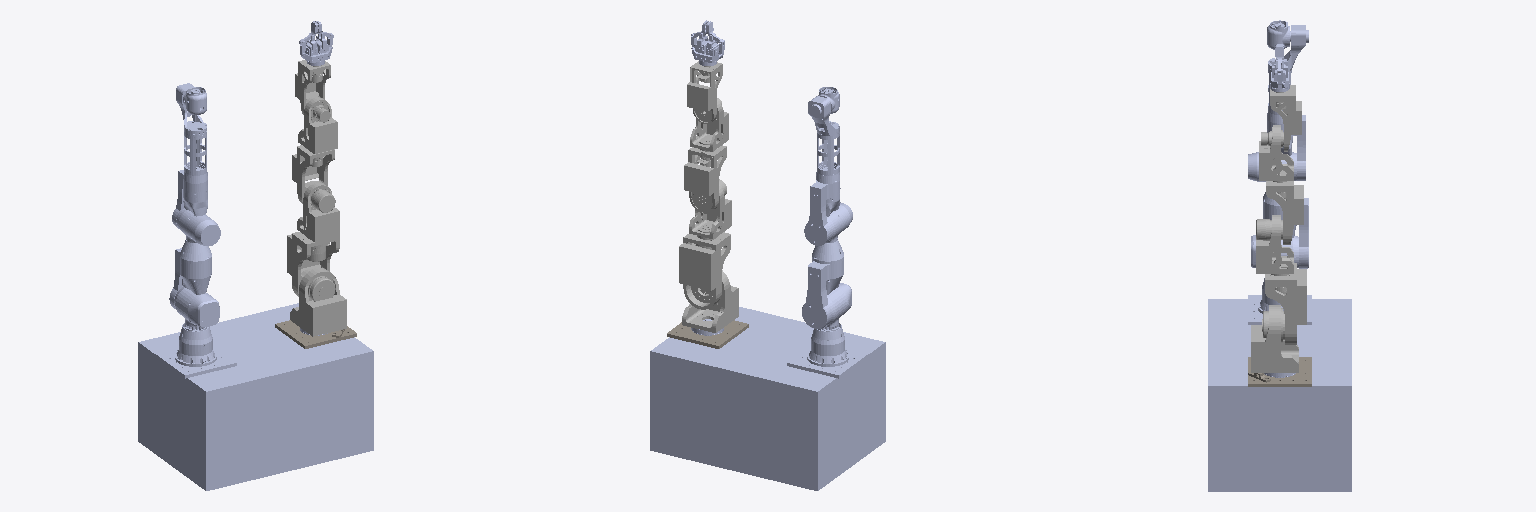
--- Render facts (derived) ---
The picture shows the robot from 3 angles, left to right: view 1: azimuth 30°, elevation 25°; view 2: azimuth 150°, elevation 25°; view 3: azimuth 270°, elevation 25°; orthographic projection.
Model dualarm with 19 links and 18 joints (14 revolute, 4 fixed), rooted at base_link, posed all joints at 0.
Links seen in each view (by area): view 1: base_link, mani1_link2, mani1_link4, mani1_link3, mani2_link3, mani1_link6, mani2_link6, mani2_link2, mani1_link5, mani2_link1, mani2_link5, mani1_link7 (+5 smaller); view 2: base_link, mani1_link3, mani2_link3, mani1_link5, mani2_link5, mani1_link2, mani2_link6, mani1_link7, mani2_link1, mani1_link4, mani1_link6, mani1_base (+4 smaller); view 3: base_link, mani1_link2, mani1_link3, mani1_link4, mani1_link6, mani1_link5, mani1_link7, mani1_base, mani2_link3, mani2_link5, mani2_link6, mani1_eff (+2 smaller).
Boxes of the visible links, box(x1,y1,x2,y2) form: base_link: box(138, 303, 373, 490); mani1_link2: box(290, 268, 346, 336); mani1_link4: box(297, 182, 339, 242); mani1_link3: box(287, 232, 339, 296); mani2_link3: box(169, 239, 211, 308); mani1_link6: box(298, 97, 337, 153); mani2_link6: box(176, 83, 206, 175); mani2_link2: box(174, 287, 219, 330); mani1_link5: box(292, 145, 334, 203); mani2_link1: box(175, 323, 216, 366); mani2_link5: box(172, 170, 207, 228); mani1_link7: box(295, 60, 330, 114); base_link: box(650, 307, 885, 490); mani1_link3: box(679, 232, 730, 309); mani2_link3: box(802, 238, 843, 328); mani1_link5: box(684, 145, 726, 213); mani2_link5: box(804, 172, 840, 245); mani1_link2: box(682, 270, 738, 332); mani2_link6: box(808, 96, 839, 175); mani1_link7: box(687, 61, 722, 123); mani2_link1: box(807, 323, 848, 366); mani1_link4: box(689, 179, 731, 239); mani1_link6: box(690, 98, 728, 151); mani1_base: box(667, 320, 748, 348); base_link: box(1208, 299, 1351, 491); mani1_link2: box(1251, 305, 1298, 372); mani1_link3: box(1265, 263, 1306, 344); mani1_link4: box(1256, 215, 1293, 273); mani1_link6: box(1259, 125, 1293, 180); mani1_link5: box(1266, 181, 1303, 244); mani1_link7: box(1270, 85, 1301, 151); mani1_base: box(1248, 357, 1311, 386); mani2_link3: box(1263, 192, 1308, 268); mani2_link5: box(1267, 112, 1305, 180); mani2_link6: box(1268, 25, 1308, 114); mani1_eff: box(1270, 44, 1289, 91).
Size in the robot's own frame: 0.66 by 0.45 by 1.5 metres.
Meshes: 19 distinct files referenced, 18 mesh visuals loaded (18 binary STL); not drawn: 1 (reference not matched to a file when rendering).

The robot description file, URDF, robot "dualarm":
<robot
  name="dualarm">


  <!-- make dummy joint -->
<!-- 
<joint name="dummy_joint" type="fixed">
    <origin xyz="0 0 0" rpy="0 0 0" />
    <child link="base_link"/>
    <parent link="dummy_link"/>
  </joint> -->


<!-- make dummy link -->

  <!-- <link name="dummy_link">
  </link>

  <gazebo reference="dummy_link">
    <material>Gazebo/White</material>
  </gazebo>
 -->

  <link
    name="base_link">
    <inertial>
      <origin
        xyz="0.32 0.225 0.1" 
        rpy="0 0 0" />
      <mass
        value="100" />
      <inertia
        ixx="8.41666666666667"
        ixy="9.71445146547012E-16"
        ixz="-1.38777878078145E-17"
        iyy="8.41666666666666"
        iyz="9.25185853854297E-18"
        izz="16.6666666666667" />
    </inertial>
    <visual>
      <origin
        xyz="-0.32 -0.225 0"
        rpy="0 0 0" />
      <geometry>
        <mesh
          filename="package://dualarm_config/meshes/base.STL" />
      </geometry>
      <material
        name="">
        <color
          rgba="0.792156862745098 0.819607843137255 0.933333333333333 1" />
      </material>
    </visual>
    <collision>
      <origin
        xyz="0 0 0"
        rpy="0 0 0" />
      <geometry>
        <mesh
          filename="package://dualarm_config/meshes/base.STL" />
      </geometry>
    </collision>
  </link>

  <gazebo reference="base_link">              
    		<material>Gazebo/White</material>
  </gazebo>





<!-- distance between two manipulator is 46cm (=0.46/2 =.23)0 -->
<!-- height between base origin to manipulator base is 11.2cm (=0.112) -->

  <joint
    name="base_joint_left"
    type="fixed">
    <origin
      xyz="0.230 0 0.376"
      rpy="0 0 0" />
    <parent
      link="base_link" />
    <child
      link="mani1_base" />
    <axis
      xyz="0 0 0" />
  </joint>






  <link
    name="mani1_base">
    <inertial>
      <origin
        xyz="0.000214133185221511 -0.000263993773760912 -0.00611775454032076"
        rpy="0 0 0" />
      <mass
        value="3.57330907434109" />
      <inertia
        ixx="0.0125043470138794"
        ixy="4.69689009859497E-05"
        ixz="-9.0888380429557E-06"
        iyy="0.0124805069140377"
        iyz="1.10392895970441E-05"
        izz="0.0248975799456784" />
    </inertial>
    <visual>
      <origin
        xyz="0 0 0"
        rpy="0 0 0" />
      <geometry>
        <mesh
          filename="package://dualarm_config/meshes/mani1_base.STL" />
      </geometry>
      <material
        name="">
        <color
          rgba="0.647058823529412 0.619607843137255 0.588235294117647 1" />
      </material>
    </visual>
    <collision>
      <origin
        xyz="0 0 0"
        rpy="0 0 0" />
      <geometry>
        <mesh
          filename="package://dualarm_config/meshes/mani1_base.STL" />
      </geometry>
    </collision>
  </link>

  <gazebo reference="mani1_base">
              
    		<material>Gazebo/White</material>
  </gazebo>

  <link
    name="mani1_link1">
    <inertial>
      <origin
        xyz="-3.51872665886486E-06 -0.000870878275491564 -0.00474601269745995"
        rpy="0 0 0" />
      <mass
        value="0.446330780520445" />
      <inertia
        ixx="0.000441978892899946"
        ixy="9.59086613795905E-08"
        ixz="6.49516463430428E-08"
        iyy="0.000420405291605374"
        iyz="-5.37864589703489E-06"
        izz="0.000462095403932586" />
    </inertial>
    <visual>
      <origin
        xyz="0 0 0"
        rpy="0 0 0" />
      <geometry>
        <mesh
          filename="package://dualarm_config/meshes/mani1_link1.STL" />
      </geometry>
      <material
        name="">
        <color
          rgba="0.792156862745098 0.819607843137255 0.933333333333333 1" />
      </material>
    </visual>
    <collision>
      <origin
        xyz="0 0 0"
        rpy="0 0 0" />
      <geometry>
        <mesh
          filename="package://dualarm_config/meshes/mani1_link1.STL" />
      </geometry>
    </collision>
  </link>

  <gazebo reference="mani1_link1">
              
    		<material>Gazebo/White</material>
  </gazebo>


  <joint
    name="mani1_fixed"
    type="fixed">
    <origin
      xyz="0 0 0"
      rpy="0 0 0" />
    <parent
      link="mani1_base" />
    <child
      link="mani1_link1" />
    <axis
      xyz="0 0 0" />
  </joint>



  <link
    name="mani1_link2">
    <inertial>
      <origin
        xyz="-6.49524381623627E-07 -0.0106338062219783 0.0790468559653485"
        rpy="0 0 0" />
      <mass
        value="2.1394698564504" />
      <inertia
        ixx="0.00933388216670083"
        ixy="-8.3479236244943E-07"
        ixz="6.3330829985724E-07"
        iyy="0.0116887123268387"
        iyz="0.000853478442579413"
        izz="0.0054725576811765" />
    </inertial>
    <visual>
      <origin
        xyz="0 0 0"
        rpy="0 0 0" />
      <geometry>
        <mesh
          filename="package://dualarm_config/meshes/mani1_link2.STL" />
      </geometry>
      <material
        name="">
        <color
          rgba="0.752941176470588 0.752941176470588 0.752941176470588 1" />
      </material>
    </visual>
    <collision>
      <origin
        xyz="0 0 0"
        rpy="0 0 0" />
      <geometry>
        <mesh
          filename="package://dualarm_config/meshes/mani1_link2.STL" />
      </geometry>
    </collision>
  </link>

  <gazebo reference="mani1_link2">
              
    		<material>Gazebo/White</material>
  </gazebo>

  <joint
    name="mani1_joint1"
    type="revolute">
    <origin
      xyz="0 0 0.022"
      rpy="0 0 0" />
    <parent
      link="mani1_link1" />
    <child
      link="mani1_link2" />
    <axis
      xyz="0 0 1" />
    <limit
      lower="-2.74"
      upper="2.74"
      effort="100"
      velocity="0.8" />
  </joint>

  <link
    name="mani1_link3">
    <inertial>
      <origin
        xyz="9.97578023689037E-06 -0.096396260738586 0.0145605378238661"
        rpy="0 0 0" />
      <mass
        value="1.82427493800269" />
      <inertia
        ixx="0.0123597154706515"
        ixy="1.45225672257562E-06"
        ixz="2.66098831293768E-07"
        iyy="0.00465884584470388"
        iyz="-0.0016099441739936"
        izz="0.0145981943825196" />
    </inertial>
    <visual>
      <origin
        xyz="0 0 0"
        rpy="0 0 0" />
      <geometry>
        <mesh
          filename="package://dualarm_config/meshes/mani1_link3.STL" />
      </geometry>
      <material
        name="">
        <color
          rgba="0.752941176470588 0.752941176470588 0.752941176470588 1" />
      </material>
    </visual>
    <collision>
      <origin
        xyz="0 0 0"
        rpy="0 0 0" />
      <geometry>
        <mesh
          filename="package://dualarm_config/meshes/mani1_link3.STL" />
      </geometry>
    </collision>
  </link>

  <gazebo reference="mani1_link3">
              
    		<material>Gazebo/White</material>
  </gazebo>

  <joint
    name="mani1_joint2"
    type="revolute">
    <origin
      xyz="0 0 0.133"
      rpy="-1.5708 1.0018E-33 -4.3239E-18" />
    <parent
      link="mani1_link2" />
    <child
      link="mani1_link3" />
    <axis
      xyz="0 0 -1" />
    <limit
      lower="-1.52"
      upper="1.52"
      effort="100"
      velocity="0.8" />
  </joint>

  <link
    name="mani1_link4">
    <inertial>
      <origin
        xyz="4.21635561466764E-07 -0.0119138976140091 0.0741259416420922"
        rpy="0 0 0" />
      <mass
        value="1.11094972876502" />
      <inertia
        ixx="0.00436016088344537"
        ixy="-2.3494039962872E-07"
        ixz="-2.01710559005772E-07"
        iyy="0.00465457365898766"
        iyz="0.000583991655089597"
        izz="0.00171072297566677" />
    </inertial>
    <visual>
      <origin
        xyz="0 0 0"
        rpy="0 0 0" />
      <geometry>
        <mesh
          filename="package://dualarm_config/meshes/mani1_link4.STL" />
      </geometry>
      <material
        name="">
        <color
          rgba="0.752941176470588 0.752941176470588 0.752941176470588 1" />
      </material>
    </visual>
    <collision>
      <origin
        xyz="0 0 0"
        rpy="0 0 0" />
      <geometry>
        <mesh
          filename="package://dualarm_config/meshes/mani1_link4.STL" />
      </geometry>
    </collision>
  </link>

  <gazebo reference="mani1_link4">
              
    		<material>Gazebo/White</material>
  </gazebo>

  <joint
    name="mani1_joint3"
    type="revolute">
    <origin
      xyz="0 -0.2 0"
      rpy="1.5708 -4.3239E-18 0" />
    <parent
      link="mani1_link3" />
    <child
      link="mani1_link4" />
    <axis
      xyz="0 0 1" />
    <limit
      lower="-1.6"
      upper="1.6"
      effort="100"
      velocity="0.8" />
  </joint>

  <link
    name="mani1_link5">
    <inertial>
      <origin
        xyz="1.5231209961995E-05 -0.0885578081506746 0.0139839867335461"
        rpy="0 0 0" />
      <mass
        value="1.10694723668742" />
      <inertia
        ixx="0.00638512740402005"
        ixy="1.26114775658813E-06"
        ixz="-3.67727740947096E-07"
        iyy="0.00179774595704778"
        iyz="-0.000911685772003026"
        izz="0.00712624030232044" />
    </inertial>
    <visual>
      <origin
        xyz="0 0 0"
        rpy="0 0 0" />
      <geometry>
        <mesh
          filename="package://dualarm_config/meshes/mani1_link5.STL" />
      </geometry>
      <material
        name="">
        <color
          rgba="0.752941176470588 0.752941176470588 0.752941176470588 1" />
      </material>
    </visual>
    <collision>
      <origin
        xyz="0 0 0"
        rpy="0 0 0" />
      <geometry>
        <mesh
          filename="package://dualarm_config/meshes/mani1_link5.STL" />
      </geometry>
    </collision>
  </link>

  <gazebo reference="mani1_link5">
              
    		<material>Gazebo/White</material>
  </gazebo>

  <joint
    name="mani1_joint4"
    type="revolute">
    <origin
      xyz="0 0 0.13"
      rpy="-1.5708 4.3366E-33 -6.2595E-17" />
    <parent
      link="mani1_link4" />
    <child
      link="mani1_link5" />
    <axis
      xyz="0 0 -1" />
    <limit
      lower="-1.78"
      upper="1.78"
      effort="100"
      velocity="0.8" />
  </joint>

  <link
    name="mani1_link6">
    <inertial>
      <origin
        xyz="2.29603452071085E-05 -0.00728511999418746 0.0627583259845416"
        rpy="0 0 0" />
      <mass
        value="0.888624094816857" />
      <inertia
        ixx="0.00300509646393665"
        ixy="1.01694662376443E-06"
        ixz="-8.01641358100054E-07"
        iyy="0.00332210196460049"
        iyz="0.000289757839226491"
        izz="0.00114424445227424" />
    </inertial>
    <visual>
      <origin
        xyz="0 0 0"
        rpy="0 0 0" />
      <geometry>
        <mesh
          filename="package://dualarm_config/meshes/mani1_link6.STL" />
      </geometry>
      <material
        name="">
        <color
          rgba="0.752941176470588 0.752941176470588 0.752941176470588 1" />
      </material>
    </visual>
    <collision>
      <origin
        xyz="0 0 0"
        rpy="0 0 0" />
      <geometry>
        <mesh
          filename="package://dualarm_config/meshes/mani1_link6.STL" />
      </geometry>
    </collision>
  </link>

  <gazebo reference="mani1_link6">
              
    		<material>Gazebo/White</material>
  </gazebo>

  <joint
    name="mani1_joint5"
    type="revolute">
    <origin
      xyz="0 -0.189 0"
      rpy="1.5708 -6.2595E-17 0" />
    <parent
      link="mani1_link5" />
    <child
      link="mani1_link6" />
    <axis
      xyz="0 0 1" />
    <limit
      lower="-2.35"
      upper="2.35"
      effort="100"
      velocity="0.8" />
  </joint>

  <link
    name="mani1_link7">
    <inertial>
      <origin
        xyz="5.23366069636606E-07 -0.0970566798173588 0.0113923272499066"
        rpy="0 0 0" />
      <mass
        value="0.592227093253045" />
      <inertia
        ixx="0.00265106618523082"
        ixy="-1.63647435150486E-08"
        ixz="-7.36265473728024E-07"
        iyy="0.000643177021908098"
        iyz="-0.000273036189954506"
        izz="0.00292912135647666" />
    </inertial>
    <visual>
      <origin
        xyz="0 0 0"
        rpy="0 0 0" />
      <geometry>
        <mesh
          filename="package://dualarm_config/meshes/mani1_link7.STL" />
      </geometry>
      <material
        name="">
        <color
          rgba="0.752941176470588 0.752941176470588 0.752941176470588 1" />
      </material>
    </visual>
    <collision>
      <origin
        xyz="0 0 0"
        rpy="0 0 0" />
      <geometry>
        <mesh
          filename="package://dualarm_config/meshes/mani1_link7.STL" />
      </geometry>
    </collision>
  </link>

  <gazebo reference="mani1_link7">
              
    		<material>Gazebo/White</material>
  </gazebo>

  <joint
    name="mani1_joint6"
    type="revolute">
    <origin
      xyz="0 0 0.125"
      rpy="-1.5708 -2.206E-48 2.6193E-32" />
    <parent
      link="mani1_link6" />
    <child
      link="mani1_link7" />
    <axis
      xyz="0 0 -1" />
    <limit
      lower="-1.78"
      upper="1.78"
      effort="100"
      velocity="0.8" />
  </joint>

  <link
    name="mani1_eff">
    <inertial>
      <origin
        xyz="0.00052359 -0.00015741 0.046995"
        rpy="0 0 0" />
      <mass
        value="0.26908" />
      <inertia
        ixx="8.5289E-05"
        ixy="9.3888E-10"
        ixz="-1.0334E-07"
        iyy="0.00013205"
        iyz="-3.8971E-07"
        izz="0.00014078" />
    </inertial>
    <visual>
      <origin
        xyz="0 0 0"
        rpy="0 0 0" />
      <geometry>
        <mesh
          filename="package://dualarm_config/meshes/mani1_eef.STL" />
      </geometry>
      <material
        name="">
        <color
          rgba="0.79216 0.81961 0.93333 1" />
      </material>
    </visual>
    <collision>
      <origin
        xyz="0 0 0"
        rpy="0 0 0" />
      <geometry>
        <mesh
          filename="package://dualarm_config/meshes/mani1_eef.STL" />
      </geometry>
    </collision>
  </link>

  <gazebo reference="mani1_eff">
    		<material>Gazebo/White</material>
  </gazebo>

  <joint
    name="mani1_joint7"
    type="revolute">
    <origin
      xyz="0 -0.175 0.0"
      rpy="1.5708 0 0" />
    <parent
      link="mani1_link7" />
    <child
      link="mani1_eff" />
    <axis
      xyz="0 0 1" />
    <limit
      lower="-2.61"
      upper="2.61"
      effort="100"
      velocity="0.8" />
  </joint>













<!-- distance between two manipulator is 46cm (=0.46/2 =0.23) -->
<!-- height between base origin to manipulator base is 11.2cm (=0.112) -->

  <joint
    name="base_joint_right"
    type="fixed">
    <origin
      xyz="-0.230 0 0.364"
      rpy="0 0 0" />
    <parent
      link="base_link" />
    <child
      link="mani2_base" />
    <axis
      xyz="0 0 0" />
  </joint>

<!-- Mani2 base -->
  <link
    name="mani2_base">
    <inertial>
      <origin
        xyz="-3.1029E-18 3.9676E-18 0.006"
        rpy="0 0 0" />
      <mass
        value="0.43725" />
      <inertia
        ixx="0.0015698"
        ixy="1.096E-20"
        ixz="1.1641E-20"
        iyy="0.0015694"
        iyz="-1.1277E-20"
        izz="0.0031287" />
    </inertial>
    <visual>
      <origin
        xyz="0 0 0"
        rpy="0 0 0" />
      <geometry>
        <mesh
          filename="package://dualarm_config/meshes/mani2_base.STL" />
      </geometry>
      <material
        name="">
        <color
          rgba="0.79216 0.81961 0.93333 1" />
      </material>
    </visual>
    <collision>
      <origin
        xyz="0 0 0"
        rpy="0 0 0" />
      <geometry>
        <mesh
          filename="package://dualarm_config/meshes/mani2_base.STL" />
      </geometry>
    </collision>
  </link>
  <link
    name="mani2_link1">
    <inertial>
      <origin
        xyz="0.00025963 -4.4216E-06 0.06121"
        rpy="0 0 0" />
      <mass
        value="0.67076" />
      <inertia
        ixx="0.00095513"
        ixy="-1.4502E-08"
        ixz="-1.0271E-06"
        iyy="0.00094832"
        iyz="-1.8227E-09"
        izz="0.0012889" />
    </inertial>
    <visual>
      <origin
        xyz="0 0 0"
        rpy="0 0 0" />
      <geometry>
        <mesh
          filename="package://dualarm_config/meshes/mani2_link1.STL" />
      </geometry>
      <material
        name="">
        <color
          rgba="0.79216 0.81961 0.93333 1" />
      </material>
    </visual>
    <collision>
      <origin
        xyz="0 0 0"
        rpy="0 0 0" />
      <geometry>
        <mesh
          filename="package://dualarm_config/meshes/mani2_link1.STL" />
      </geometry>
    </collision>
  </link>
  <joint
    name="mani2_fixed"
    type="fixed">
    <origin
      xyz="0 0 0.012"
      rpy="0 0 1.5708" />
    <parent
      link="mani2_base" />
    <child
      link="mani2_link1" />
    <axis
      xyz="0 0 0" />
  </joint>
  <link
    name="mani2_link2">
    <inertial>
      <origin
        xyz="6.849E-05 -0.015121 0.063905"
        rpy="0 0 0" />
      <mass
        value="0.63538" />
      <inertia
        ixx="0.00072901"
        ixy="-3.9612E-07"
        ixz="1.1922E-06"
        iyy="0.0010627"
        iyz="2.6423E-06"
        izz="0.00069297" />
    </inertial>
    <visual>
      <origin
        xyz="0 0 0"
        rpy="0 0 0" />
      <geometry>
        <mesh
          filename="package://dualarm_config/meshes/mani2_link2.STL" />
      </geometry>
      <material
        name="">
        <color
          rgba="0.79216 0.81961 0.93333 1" />
      </material>
    </visual>
    <collision>
      <origin
        xyz="0 0 0"
        rpy="0 0 0" />
      <geometry>
        <mesh
          filename="package://dualarm_config/meshes/mani2_link2.STL" />
      </geometry>
    </collision>
  </link>
  <joint
    name="mani2_joint1"
    type="revolute">
    <origin
      xyz="0 0 0.125"
      rpy="0 0 1.5708" />
    <parent
      link="mani2_link1" />
    <child
      link="mani2_link2" />
    <axis
      xyz="0 0 1" />
    <limit
      lower="-2.35"
      upper="2.35"
      effort="100"
      velocity="0.8" />
  </joint>
  <link
    name="mani2_link3">
    <inertial>
      <origin
        xyz="-0.00018188 -0.11832 0.041393"
        rpy="0 0 0" />
      <mass
        value="0.55009" />
      <inertia
        ixx="0.0009283"
        ixy="-9.2458E-07"
        ixz="-9.3918E-07"
        iyy="0.00082363"
        iyz="1.9373E-05"
        izz="0.00096206" />
    </inertial>
    <visual>
      <origin
        xyz="0 0 0"
        rpy="0 0 0" />
      <geometry>
        <mesh
          filename="package://dualarm_config/meshes/mani2_link3.STL" />
      </geometry>
      <material
        name="">
        <color
          rgba="0.79216 0.81961 0.93333 1" />
      </material>
    </visual>
    <collision>
      <origin
        xyz="0 0 0"
        rpy="0 0 0" />
      <geometry>
        <mesh
          filename="package://dualarm_config/meshes/mani2_link3.STL" />
      </geometry>
    </collision>
  </link>
  <joint
    name="mani2_joint2"
    type="revolute">
    <origin
      xyz="0 -0.069 0.0675"
      rpy="-1.5708 0 0" />
    <parent
      link="mani2_link2" />
    <child
      link="mani2_link3" />
    <axis
      xyz="0 0 1" />
    <limit
      lower="-1.9"
      upper="1.9"
      effort="100"
      velocity="0.8" />
  </joint>
  <link
    name="mani2_link4">
    <inertial>
      <origin
        xyz="-8.8281E-05 -0.009886 0.069843"
        rpy="0 0 0" />
      <mass
        value="0.45928" />
      <inertia
        ixx="0.00040071"
        ixy="-2.3353E-07"
        ixz="-1.992E-06"
        iyy="0.00052253"
        iyz="2.47E-05"
        izz="0.00038096" />
    </inertial>
    <visual>
      <origin
        xyz="0 0 0"
        rpy="0 0 0" />
      <geometry>
        <mesh
          filename="package://dualarm_config/meshes/mani2_link4.STL" />
      </geometry>
      <material
        name="">
        <color
          rgba="0.79216 0.81961 0.93333 1" />
      </material>
    </visual>
    <collision>
      <origin
        xyz="0 0 0"
        rpy="0 0 0" />
      <geometry>
        <mesh
          filename="package://dualarm_config/meshes/mani2_link4.STL" />
      </geometry>
    </collision>
  </link>
  <joint
    name="mani2_joint3"
    type="revolute">
    <origin
      xyz="0 -0.2197 0.069"
      rpy="1.5708 0 0" />
    <parent
      link="mani2_link3" />
    <child
      link="mani2_link4" />
    <axis
      xyz="0 0 1" />
    <limit
      lower="-2.5"
      upper="2.5"
      effort="100"
      velocity="0.8" />
  </joint>
  <link
    name="mani2_link5">
    <inertial>
      <origin
        xyz="0.00019482 -0.11792 0.037427"
        rpy="0 0 0" />
      <mass
        value="0.43981" />
      <inertia
        ixx="0.00052212"
        ixy="1.2216E-07"
        ixz="-9.6251E-08"
        iyy="0.00035826"
        iyz="1.9152E-05"
        izz="0.00054597" />
    </inertial>
    <visual>
      <origin
        xyz="0 0 0"
        rpy="0 0 0" />
      <geometry>
        <mesh
          filename="package://dualarm_config/meshes/mani2_link5.STL" />
      </geometry>
      <material
        name="">
        <color
          rgba="0.79216 0.81961 0.93333 1" />
      </material>
    </visual>
    <collision>
      <origin
        xyz="0 0 0"
        rpy="0 0 0" />
      <geometry>
        <mesh
          filename="package://dualarm_config/meshes/mani2_link5.STL" />
      </geometry>
    </collision>
  </link>
  <joint
    name="mani2_joint4"
    type="revolute">
    <origin
      xyz="0 -0.061 0.0753"
      rpy="-1.5708 0 0" />
    <parent
      link="mani2_link4" />
    <child
      link="mani2_link5" />
    <axis
      xyz="0 0 1" />
    <limit
      lower="-1.8"
      upper="1.8"
      effort="100"
      velocity="0.8" />
  </joint>
  <link
    name="mani2_link6">
    <inertial>
      <origin
        xyz="1.0745E-05 0.030079 0.16626"
        rpy="0 0 0" />
      <mass
        value="0.30699" />
      <inertia
        ixx="0.0004714"
        ixy="3.3142E-08"
        ixz="-6.2237E-09"
        iyy="0.00049632"
        iyz="-4.3014E-05"
        izz="0.00023077" />
    </inertial>
    <visual>
      <origin
        xyz="0 0 0"
        rpy="0 0 0" />
      <geometry>
        <mesh
          filename="package://dualarm_config/meshes/mani2_link6.STL" />
      </geometry>
      <material
        name="">
        <color
          rgba="0.79216 0.81961 0.93333 1" />
      </material>
    </visual>
    <collision>
      <origin
        xyz="0 0 0"
        rpy="0 0 0" />
      <geometry>
        <mesh
          filename="package://dualarm_config/meshes/mani2_link6.STL" />
      </geometry>
    </collision>
  </link>
  <joint
    name="mani2_joint5"
    type="revolute">
    <origin
      xyz="0 -0.2 0.061"
      rpy="-1.5708 0 3.1416" />
    <parent
      link="mani2_link5" />
    <child
      link="mani2_link6" />
    <axis
      xyz="0 0 1" />
    <limit
      lower="-2.15"
      upper="2.15"
      effort="100"
      velocity="0.8" />
  </joint>
  <link
    name="mani2_link7">
    <inertial>
      <origin
        xyz="-0.00010944 -0.0075746 -0.032739"
        rpy="0 0 0" />
      <mass
        value="0.10158" />
      <inertia
        ixx="6.5446E-05"
        ixy="-2.9093E-08"
        ixz="4.8842E-08"
        iyy="6.9978E-05"
        iyz="2.982E-07"
        izz="6.75E-05" />
    </inertial>
    <visual>
      <origin
        xyz="0 0 0"
        rpy="0 0 0" />
      <geometry>
        <mesh
          filename="package://dualarm_config/meshes/mani2_link7.STL" />
      </geometry>
      <material
        name="">
        <color
          rgba="0.79216 0.81961 0.93333 1" />
      </material>
    </visual>
    <collision>
      <origin
        xyz="0 0 0"
        rpy="0 0 0" />
      <geometry>
        <mesh
          filename="package://dualarm_config/meshes/mani2_link7.STL" />
      </geometry>
    </collision>
  </link>
  <joint
    name="mani2_joint6"
    type="revolute">
    <origin
      xyz="0 0.032 0.25"
      rpy="-1.5708 0 0" />
    <parent
      link="mani2_link6" />
    <child
      link="mani2_link7" />
    <axis
      xyz="0 0 -1" />
    <limit
      lower="-2.09"
      upper="2.09"
      effort="100"
      velocity="0.8" />
  </joint>
  <link
    name="mani2_link8">
    <inertial>
      <origin
        xyz="0.00052359 -0.00015741 0.046995"
        rpy="0 0 0" />
      <mass
        value="0.26908" />
      <inertia
        ixx="8.5289E-05"
        ixy="9.3888E-10"
        ixz="-1.0334E-07"
        iyy="0.00013205"
        iyz="-3.8971E-07"
        izz="0.00014078" />
    </inertial>
    <visual>
      <origin
        xyz="0 0 0"
        rpy="0 0 0" />
      <geometry>
        <mesh
          filename="package://dualarm_config/meshes/mani2_eef.STL" />
      </geometry>
      <material
        name="">
        <color
          rgba="0.79216 0.81961 0.93333 1" />
      </material>
    </visual>
    <collision>
      <origin
        xyz="0 0 0"
        rpy="0 0 0" />
      <geometry>
        <mesh
          filename="package://dualarm_config/meshes/mani2_eef.STL" />
      </geometry>
    </collision>
  </link>
  <joint
    name="mani2_joint7"
    type="revolute">
    <origin
      xyz="0 -0.0405 -0.032"
      rpy="1.5708 0 0" />
    <parent
      link="mani2_link7" />
    <child
      link="mani2_link8" />
    <axis
      xyz="0 0 1" />
    <limit
      lower="-2.95"
      upper="2.95"
      effort="100"
      velocity="0.8" />
  </joint>





<!-- Transmissions for ROS Control -->

  <transmission name="left_tran1">
    <type>transmission_interface/SimpleTransmission</type>
    <joint name="mani1_joint1">
      <hardwareInterface>hardware_interface/PositionJointInterface</hardwareInterface>
    </joint>
    <actuator name="left_motor1">
      <hardwareInterface>hardware_interface/PositionJointInterface</hardwareInterface>
      <mechanicalReduction>1</mechanicalReduction>
    </actuator>
  </transmission>
  <transmission name="left_tran2">
    <type>transmission_interface/SimpleTransmission</type>
    <joint name="mani1_joint2">
      <hardwareInterface>hardware_interface/PositionJointInterface</hardwareInterface>
    </joint>
    <actuator name="left_motor2">
      <hardwareInterface>hardware_interface/PositionJointInterface</hardwareInterface>
      <mechanicalReduction>1</mechanicalReduction>
    </actuator>
  </transmission>
  <transmission name="left_tran3">
    <type>transmission_interface/SimpleTransmission</type>
    <joint name="mani1_joint3">
      <hardwareInterface>hardware_interface/PositionJointInterface</hardwareInterface>
    </joint>
    <actuator name="left_motor3">
      <hardwareInterface>hardware_interface/PositionJointInterface</hardwareInterface>
      <mechanicalReduction>1</mechanicalReduction>
    </actuator>
  </transmission>
  <transmission name="left_tran4">
    <type>transmission_interface/SimpleTransmission</type>
    <joint name="mani1_joint4">
      <hardwareInterface>hardware_interface/PositionJointInterface</hardwareInterface>
    </joint>
    <actuator name="left_motor4">
      <hardwareInterface>hardware_interface/PositionJointInterface</hardwareInterface>
      <mechanicalReduction>1</mechanicalReduction>
    </actuator>
  </transmission>
  <transmission name="left_tran5">
    <type>transmission_interface/SimpleTransmission</type>
    <joint name="mani1_joint5">
      <hardwareInterface>hardware_interface/PositionJointInterface</hardwareInterface>
    </joint>
    <actuator name="left_motor5">
      <hardwareInterface>hardware_interface/PositionJointInterface</hardwareInterface>
      <mechanicalReduction>1</mechanicalReduction>
    </actuator>
  </transmission>
  <transmission name="left_tran6">
    <type>transmission_interface/SimpleTransmission</type>
    <joint name="mani1_joint6">
      <hardwareInterface>hardware_interface/PositionJointInterface</hardwareInterface>
    </joint>
    <actuator name="left_motor6">
      <hardwareInterface>hardware_interface/PositionJointInterface</hardwareInterface>
      <mechanicalReduction>1</mechanicalReduction>
    </actuator>
  </transmission>
  <transmission name="left_tran7">
    <type>transmission_interface/SimpleTransmission</type>
    <joint name="mani1_joint7">
      <hardwareInterface>hardware_interface/PositionJointInterface</hardwareInterface>
    </joint>
    <actuator name="left_motor7">
      <hardwareInterface>hardware_interface/PositionJointInterface</hardwareInterface>
      <mechanicalReduction>1</mechanicalReduction>
    </actuator>
  </transmission>






  <transmission name="right_tran1">
    <type>transmission_interface/SimpleTransmission</type>
    <joint name="mani2_joint1">
      <hardwareInterface>hardware_interface/PositionJointInterface</hardwareInterface>
    </joint>
    <actuator name="right_motor1">
      <hardwareInterface>hardware_interface/PositionJointInterface</hardwareInterface>
      <mechanicalReduction>1</mechanicalReduction>
    </actuator>
  </transmission>
  <transmission name="right_tran2">
    <type>transmission_interface/SimpleTransmission</type>
    <joint name="mani2_joint2">
      <hardwareInterface>hardware_interface/PositionJointInterface</hardwareInterface>
    </joint>
    <actuator name="right_motor2">
      <hardwareInterface>hardware_interface/PositionJointInterface</hardwareInterface>
      <mechanicalReduction>1</mechanicalReduction>
    </actuator>
  </transmission>
  <transmission name="right_tran3">
    <type>transmission_interface/SimpleTransmission</type>
    <joint name="mani2_joint3">
      <hardwareInterface>hardware_interface/PositionJointInterface</hardwareInterface>
    </joint>
    <actuator name="right_motor3">
      <hardwareInterface>hardware_interface/PositionJointInterface</hardwareInterface>
      <mechanicalReduction>1</mechanicalReduction>
    </actuator>
  </transmission>
  <transmission name="right_tran4">
    <type>transmission_interface/SimpleTransmission</type>
    <joint name="mani2_joint4">
      <hardwareInterface>hardware_interface/PositionJointInterface</hardwareInterface>
    </joint>
    <actuator name="right_motor4">
      <hardwareInterface>hardware_interface/PositionJointInterface</hardwareInterface>
      <mechanicalReduction>1</mechanicalReduction>
    </actuator>
  </transmission>
  <transmission name="right_tran5">
    <type>transmission_interface/SimpleTransmission</type>
    <joint name="mani2_joint5">
      <hardwareInterface>hardware_interface/PositionJointInterface</hardwareInterface>
    </joint>
    <actuator name="right_motor5">
      <hardwareInterface>hardware_interface/PositionJointInterface</hardwareInterface>
      <mechanicalReduction>1</mechanicalReduction>
    </actuator>
  </transmission>
  <transmission name="right_tran6">
    <type>transmission_interface/SimpleTransmission</type>
    <joint name="mani2_joint6">
      <hardwareInterface>hardware_interface/PositionJointInterface</hardwareInterface>
    </joint>
    <actuator name="right_motor6">
      <hardwareInterface>hardware_interface/PositionJointInterface</hardwareInterface>
      <mechanicalReduction>1</mechanicalReduction>
    </actuator>
  </transmission>
  <transmission name="right_tran7">
    <type>transmission_interface/SimpleTransmission</type>
    <joint name="mani2_joint7">
      <hardwareInterface>hardware_interface/PositionJointInterface</hardwareInterface>
    </joint>
    <actuator name="right_motor7">
      <hardwareInterface>hardware_interface/PositionJointInterface</hardwareInterface>
      <mechanicalReduction>1</mechanicalReduction>
    </actuator>
  </transmission>


  <!-- ros_control plugin -->
  <gazebo>
    <plugin filename="libgazebo_ros_control.so" name="gazebo_ros_control">
      <robotNamespace>/dualarm</robotNamespace>
    </plugin>
  </gazebo>

<!-- effort con
 <transmission name="trans_mani1_joint1">
        <type>transmission_interface/SimpleTransmission</type>
        <joint name="mani1_joint1">
            <hardwareInterface>hardware_interface/EffortJointInterface</hardwareInterface>
        </joint>
        <actuator name="mani1_joint1_motor">
            <hardwareInterface>hardware_interface/EffortJointInterface</hardwareInterface>
            <mechanicalReduction>1</mechanicalReduction>
        </actuator>
    </transmission>
    <transmission name="trans_mani1_joint2">
        <type>transmission_interface/SimpleTransmission</type>
        <joint name="mani1_joint2">
            <hardwareInterface>hardware_interface/EffortJointInterface</hardwareInterface>
        </joint>
        <actuator name="mani1_joint2_motor">
            <hardwareInterface>hardware_interface/EffortJointInterface</hardwareInterface>
            <mechanicalReduction>1</mechanicalReduction>
        </actuator>
    </transmission>
    <transmission name="trans_mani1_joint3">
        <type>transmission_interface/SimpleTransmission</type>
        <joint name="mani1_joint3">
            <hardwareInterface>hardware_interface/EffortJointInterface</hardwareInterface>
        </joint>
        <actuator name="mani1_joint3_motor">
            <hardwareInterface>hardware_interface/EffortJointInterface</hardwareInterface>
            <mechanicalReduction>1</mechanicalReduction>
        </actuator>
    </transmission>
    <transmission name="trans_mani1_joint4">
        <type>transmission_interface/SimpleTransmission</type>
        <joint name="mani1_joint4">
            <hardwareInterface>hardware_interface/EffortJointInterface</hardwareInterface>
        </joint>
        <actuator name="mani1_joint4_motor">
            <hardwareInterface>hardware_interface/EffortJointInterface</hardwareInterface>
            <mechanicalReduction>1</mechanicalReduction>
        </actuator>
    </transmission>
    <transmission name="trans_mani1_joint5">
        <type>transmission_interface/SimpleTransmission</type>
        <joint name="mani1_joint5">
            <hardwareInterface>hardware_interface/EffortJointInterface</hardwareInterface>
        </joint>
        <actuator name="mani1_joint5_motor">
            <hardwareInterface>hardware_interface/EffortJointInterface</hardwareInterface>
            <mechanicalReduction>1</mechanicalReduction>
        </actuator>
    </transmission>
    <transmission name="trans_mani1_joint6">
        <type>transmission_interface/SimpleTransmission</type>
        <joint name="mani1_joint6">
            <hardwareInterface>hardware_interface/EffortJointInterface</hardwareInterface>
        </joint>
        <actuator name="mani1_joint6_motor">
            <hardwareInterface>hardware_interface/EffortJointInterface</hardwareInterface>
            <mechanicalReduction>1</mechanicalReduction>
        </actuator>
    </transmission>
    <transmission name="trans_mani1_joint7">
        <type>transmission_interface/SimpleTransmission</type>
        <joint name="mani1_joint7">
            <hardwareInterface>hardware_interface/EffortJointInterface</hardwareInterface>
        </joint>
        <actuator name="mani1_joint7_motor">
            <hardwareInterface>hardware_interface/EffortJointInterface</hardwareInterface>
            <mechanicalReduction>1</mechanicalReduction>
        </actuator>
    </transmission>
    <transmission name="trans_mani2_joint1">
        <type>transmission_interface/SimpleTransmission</type>
        <joint name="mani2_joint1">
            <hardwareInterface>hardware_interface/EffortJointInterface</hardwareInterface>
        </joint>
        <actuator name="mani2_joint1_motor">
            <hardwareInterface>hardware_interface/EffortJointInterface</hardwareInterface>
            <mechanicalReduction>1</mechanicalReduction>
        </actuator>
    </transmission>
    <transmission name="trans_mani2_joint2">
        <type>transmission_interface/SimpleTransmission</type>
        <joint name="mani2_joint2">
            <hardwareInterface>hardware_interface/EffortJointInterface</hardwareInterface>
        </joint>
        <actuator name="mani2_joint2_motor">
            <hardwareInterface>hardware_interface/EffortJointInterface</hardwareInterface>
            <mechanicalReduction>1</mechanicalReduction>
        </actuator>
    </transmission>
    <transmission name="trans_mani2_joint3">
        <type>transmission_interface/SimpleTransmission</type>
        <joint name="mani2_joint3">
            <hardwareInterface>hardware_interface/EffortJointInterface</hardwareInterface>
        </joint>
        <actuator name="mani2_joint3_motor">
            <hardwareInterface>hardware_interface/EffortJointInterface</hardwareInterface>
            <mechanicalReduction>1</mechanicalReduction>
        </actuator>
    </transmission>
    <transmission name="trans_mani2_joint4">
        <type>transmission_interface/SimpleTransmission</type>
        <joint name="mani2_joint4">
            <hardwareInterface>hardware_interface/EffortJointInterface</hardwareInterface>
        </joint>
        <actuator name="mani2_joint4_motor">
            <hardwareInterface>hardware_interface/EffortJointInterface</hardwareInterface>
            <mechanicalReduction>1</mechanicalReduction>
        </actuator>
    </transmission>
    <transmission name="trans_mani2_joint5">
        <type>transmission_interface/SimpleTransmission</type>
        <joint name="mani2_joint5">
            <hardwareInterface>hardware_interface/EffortJointInterface</hardwareInterface>
        </joint>
        <actuator name="mani2_joint5_motor">
            <hardwareInterface>hardware_interface/EffortJointInterface</hardwareInterface>
            <mechanicalReduction>1</mechanicalReduction>
        </actuator>
    </transmission>
    <transmission name="trans_mani2_joint6">
        <type>transmission_interface/SimpleTransmission</type>
        <joint name="mani2_joint6">
            <hardwareInterface>hardware_interface/EffortJointInterface</hardwareInterface>
        </joint>
        <actuator name="mani2_joint6_motor">
            <hardwareInterface>hardware_interface/EffortJointInterface</hardwareInterface>
            <mechanicalReduction>1</mechanicalReduction>
        </actuator>
    </transmission>
    <transmission name="trans_mani2_joint7">
        <type>transmission_interface/SimpleTransmission</type>
        <joint name="mani2_joint7">
            <hardwareInterface>hardware_interface/EffortJointInterface</hardwareInterface>
        </joint>
        <actuator name="mani2_joint7_motor">
            <hardwareInterface>hardware_interface/EffortJointInterface</hardwareInterface>
            <mechanicalReduction>1</mechanicalReduction>
        </actuator>
    </transmission>
    <gazebo>
        <plugin name="gazebo_ros_control" filename="libgazebo_ros_control.so">
            <robotNamespace>/dualarm_config</robotNamespace>
        </plugin>
    </gazebo>
-->







</robot>
